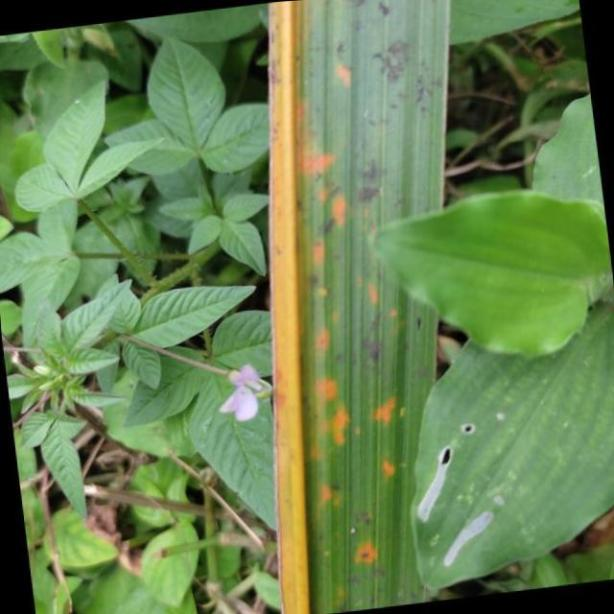Megnesium: (265, 0, 456, 614)
